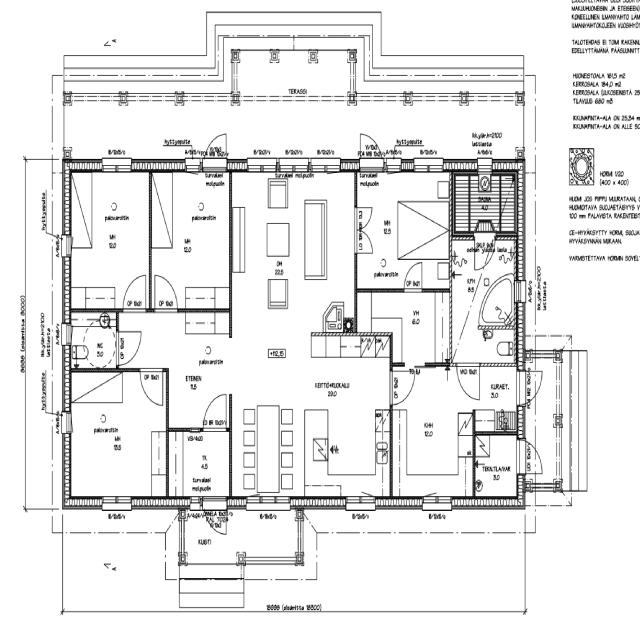door: (203, 496, 226, 544), (203, 126, 226, 172), (360, 126, 382, 172), (516, 371, 546, 403), (516, 441, 546, 472), (456, 362, 479, 400), (140, 368, 162, 405), (155, 275, 177, 312), (204, 394, 226, 431), (390, 371, 414, 404), (123, 276, 145, 312), (116, 332, 140, 364), (475, 233, 494, 268), (404, 263, 422, 292), (355, 207, 372, 230), (355, 230, 372, 252)
